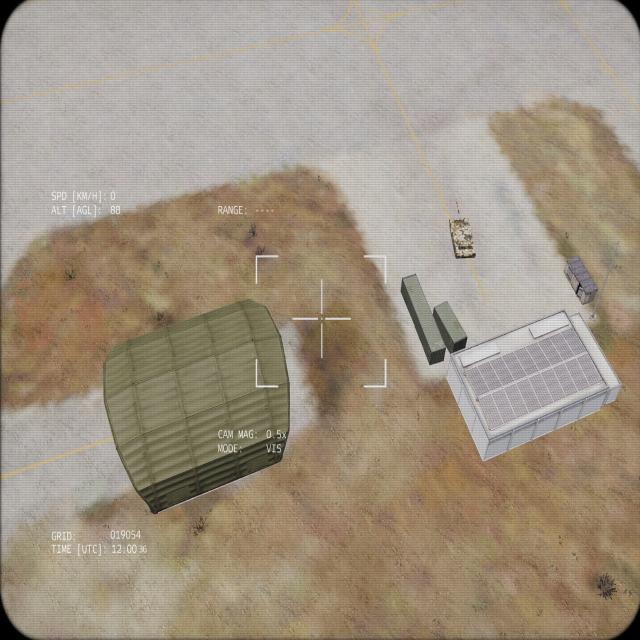tank: (446, 196, 475, 260)
